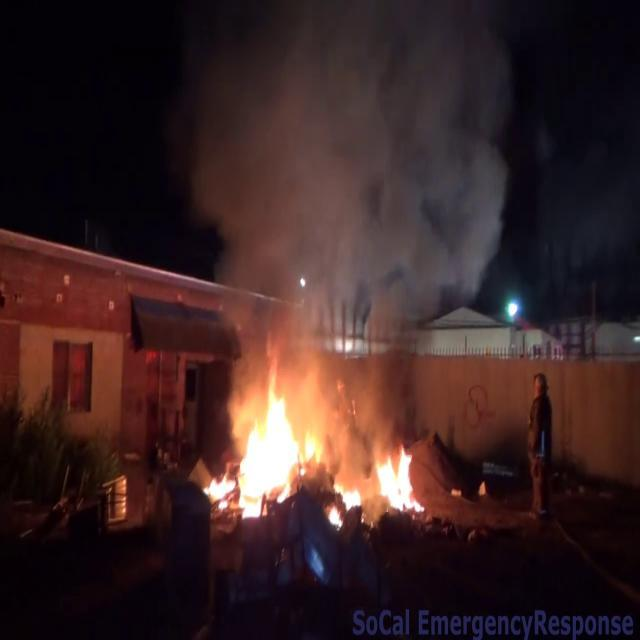Fire: (205, 371, 322, 514), (370, 440, 430, 524)
Smoke: (174, 0, 526, 405)
